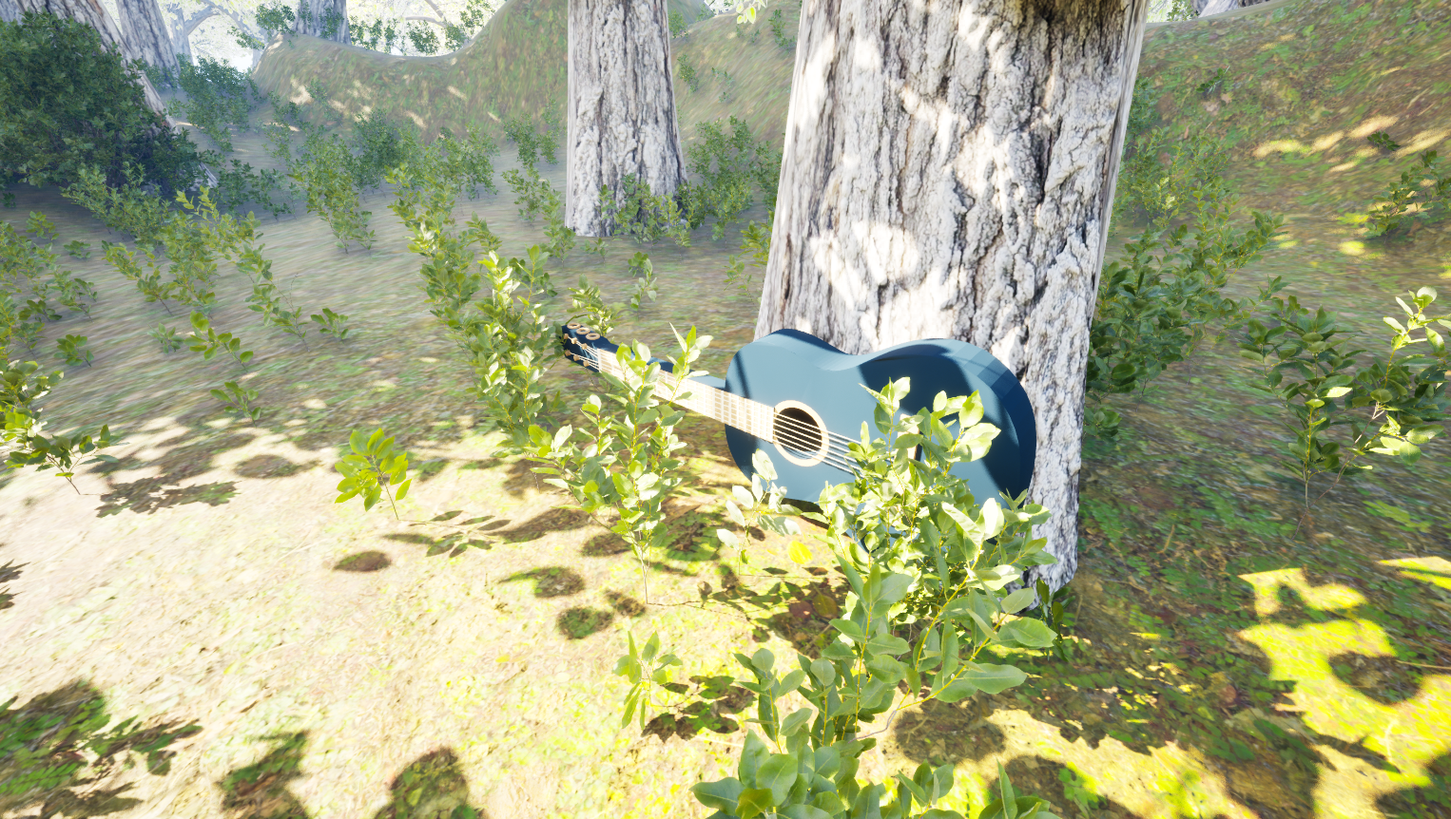Guitar: (537, 253, 1063, 619)
